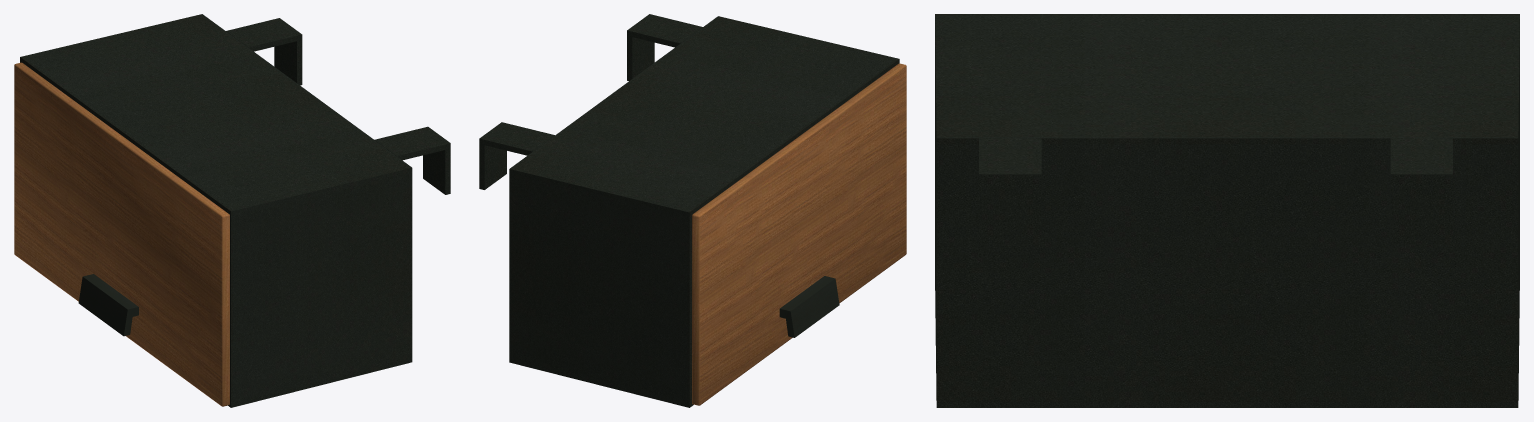
The model's file is OfficeStorage_01.DAE.
The picture shows the model from 3 angles, left to right: view 1: azimuth 30°, elevation 25°; view 2: azimuth 150°, elevation 25°; view 3: azimuth 270°, elevation 25°; orthographic projection. The views are drawn at different scales.
Parts seen in each view (by area): view 1: OfficeStorageOne300; view 2: OfficeStorageOne300; view 3: OfficeStorageOne300.
Boxes of the visible parts, <box> form: OfficeStorageOne300: <box>14,14,450,407</box>; OfficeStorageOne300: <box>479,14,906,407</box>; OfficeStorageOne300: <box>935,14,1519,407</box>.
Size of what is drawn, in the model's own units: 84.18 by 119 by 61.03.
